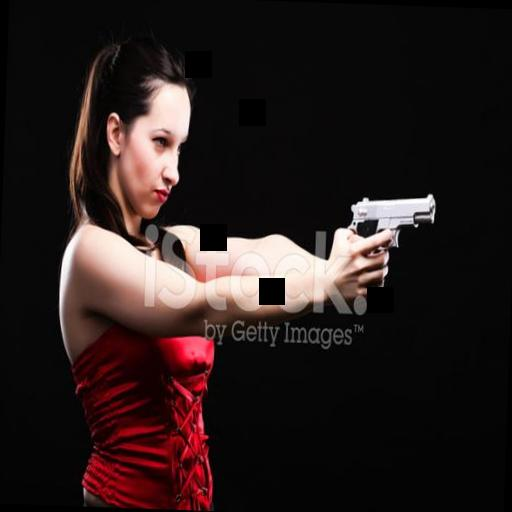Handgun: (344, 185, 434, 262)
